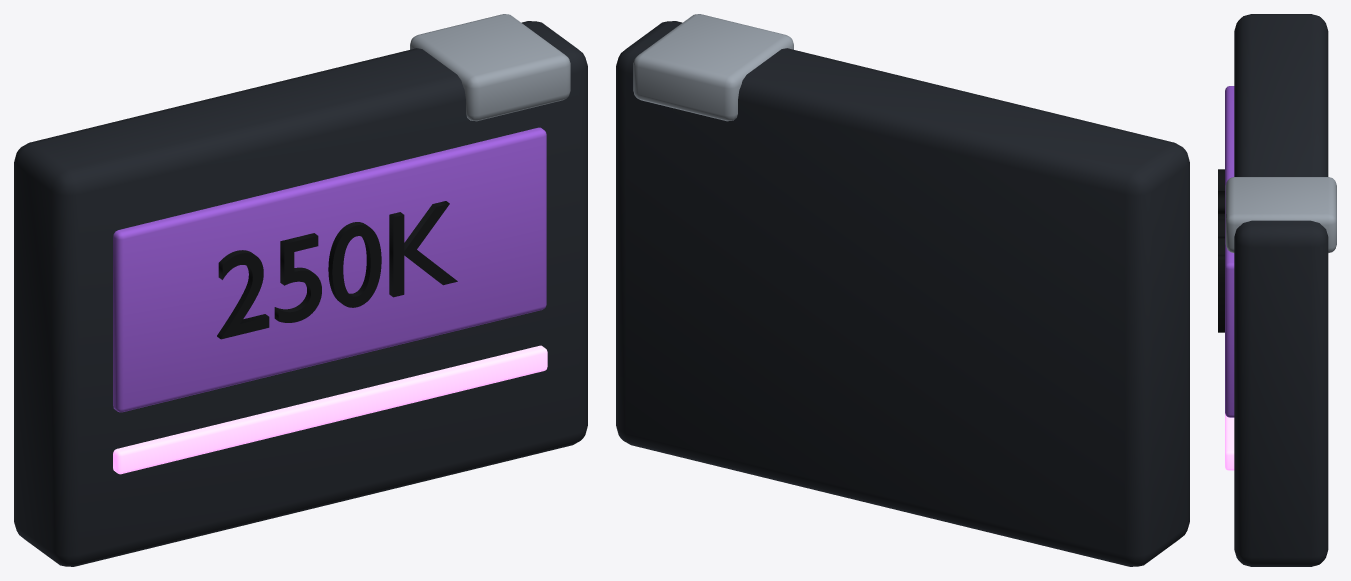
Rendered from rscDisk250k.fbx.
3 views of the same model, side by side, from view 1: azimuth 30°, elevation 25°; view 2: azimuth 150°, elevation 25°; view 3: azimuth 270°, elevation 25° (orthographic). The views are drawn at different scales.
Parts seen in each view (by area): view 1: rscDisk250k_shell, rscDisk250k_label, rscDisk250k_stripe, rscDisk250k_grip, rscDisk250k_text; view 2: rscDisk250k_shell, rscDisk250k_grip; view 3: rscDisk250k_shell, rscDisk250k_grip, rscDisk250k_label, rscDisk250k_text, rscDisk250k_stripe.
Boxes of the visible parts, x1=… form: rscDisk250k_shell: x1=14, y1=21, x2=587, y2=566; rscDisk250k_label: x1=113, y1=127, x2=546, y2=412; rscDisk250k_stripe: x1=113, y1=345, x2=547, y2=474; rscDisk250k_grip: x1=410, y1=14, x2=570, y2=121; rscDisk250k_text: x1=217, y1=201, x2=457, y2=339; rscDisk250k_shell: x1=616, y1=21, x2=1189, y2=566; rscDisk250k_grip: x1=633, y1=14, x2=793, y2=121; rscDisk250k_shell: x1=1234, y1=14, x2=1328, y2=566; rscDisk250k_grip: x1=1225, y1=177, x2=1336, y2=252; rscDisk250k_label: x1=1225, y1=86, x2=1234, y2=417; rscDisk250k_text: x1=1218, y1=169, x2=1224, y2=332; rscDisk250k_stripe: x1=1225, y1=413, x2=1234, y2=470.
Bounding box in the file's own units: 0.62 × 0.445 × 0.139.
